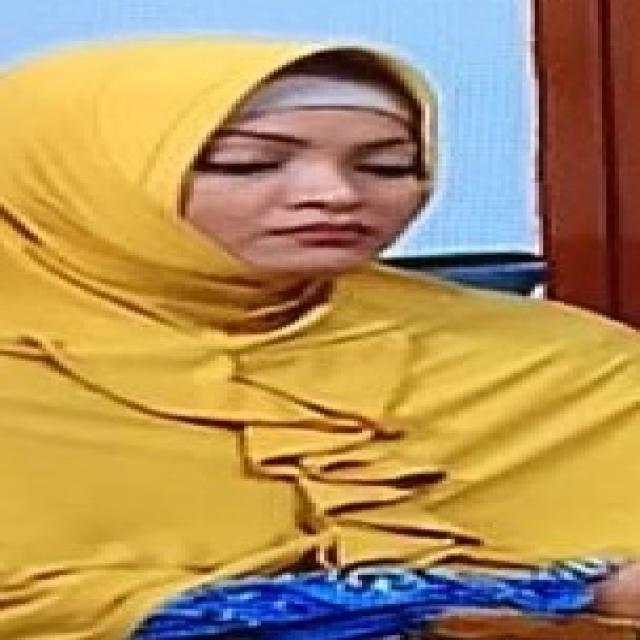head: (9, 29, 455, 284)
